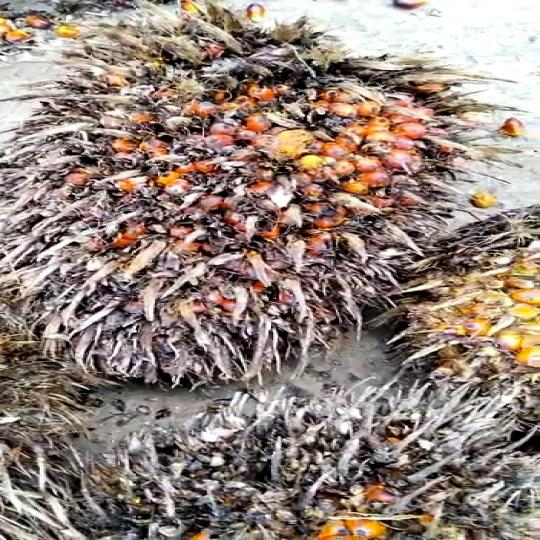terlalu masak: (0, 18, 495, 384)
